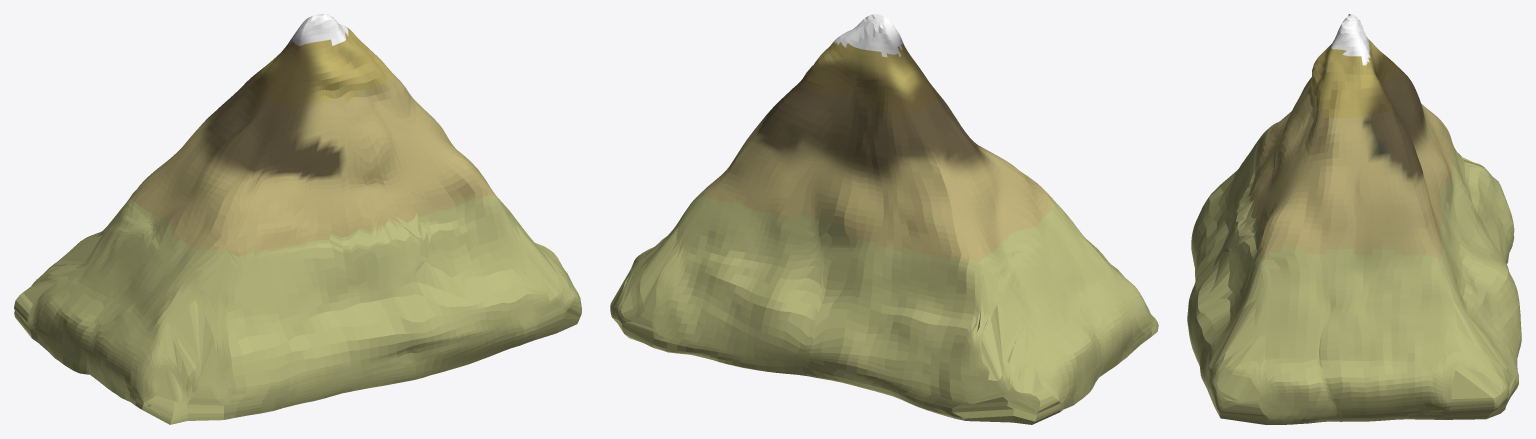
File: Mount.fbx
3 views of the same model, side by side, from view 1: azimuth 30°, elevation 25°; view 2: azimuth 150°, elevation 25°; view 3: azimuth 270°, elevation 25° (orthographic).
Visible parts, largest first — view 1: 立方体; view 2: 立方体; view 3: 立方体.
Boxes of the visible parts, box(x1,y1,x2,y2) form: 立方体: box(14, 14, 581, 424); 立方体: box(610, 14, 1158, 424); 立方体: box(1187, 14, 1521, 424).
Bounding box in the file's own units: 15895 × 10753 × 10400.
